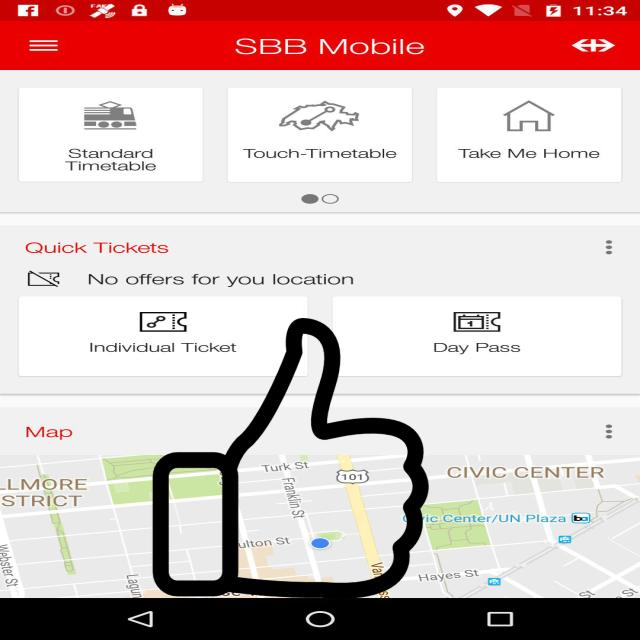privacy zuckering: (148, 318, 432, 599)
